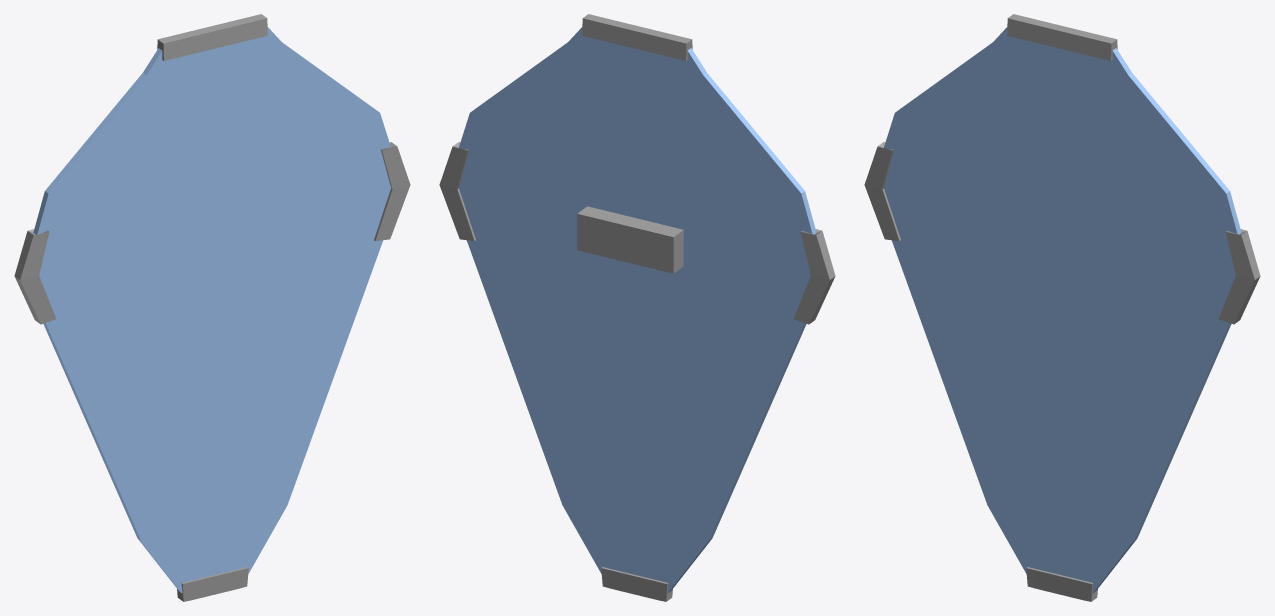
File: shield.fbx
3 renders of one model, left to right at view 1: azimuth 30°, elevation 25°; view 2: azimuth 150°, elevation 25°; view 3: azimuth 330°, elevation 25°, orthographic.
Parts seen in each view (by area): view 1: Plane; view 2: Plane, Cube; view 3: Plane.
Boxes of the visible parts, x1,y1,x2,y2 form: Plane: (14, 14, 410, 601); Plane: (439, 14, 835, 601); Cube: (577, 206, 683, 273); Plane: (864, 14, 1260, 601).
Size of the model in its own units: 197 by 272 by 13.47.
